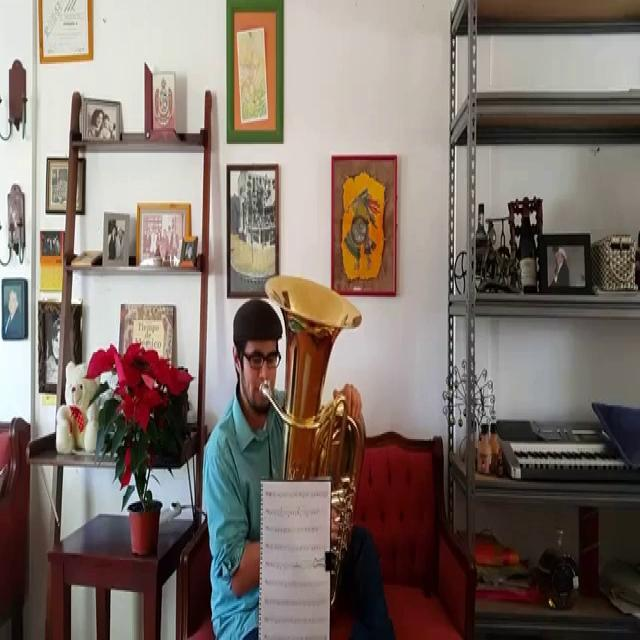Tuba: (264, 264, 367, 612)
